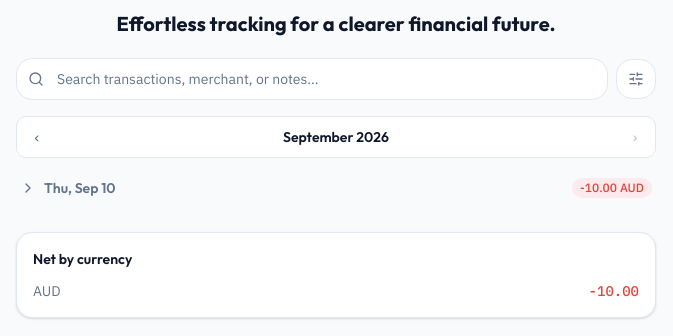
历史页 › 当前月无账目且无筛选时用 emptyLedger 空态，筛选空时用 historyNoResults
Note: 回退到 8 月——两笔账之间没有账目的「中间空月」→ emptyLedger
Click the button named "Previous month" at (37, 136), box top-left (21, 120), bottom-right (53, 152)
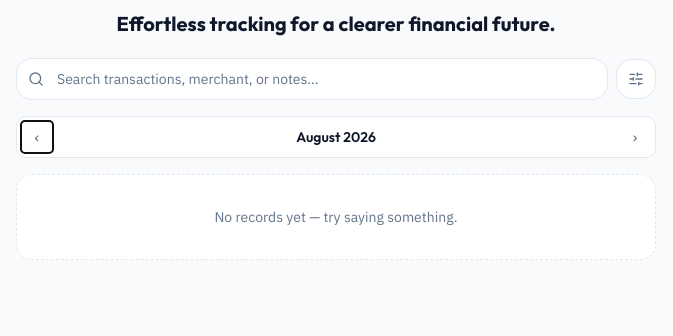
Expected: the text "No records yet — try saying something." is shown, top-left (16, 174), bottom-right (656, 260)
Note: 打开搜索、输入命不中的词 → historyNoResults（与 emptyLedger 文案不同）
Type "zzz" into the search field at (312, 78), box top-left (16, 58), bottom-right (608, 100)
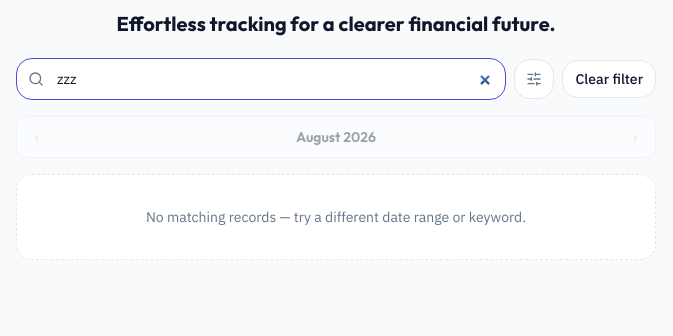
Expected: the text "No matching records — try a different date range or keyword." is shown, top-left (16, 174), bottom-right (656, 260)
